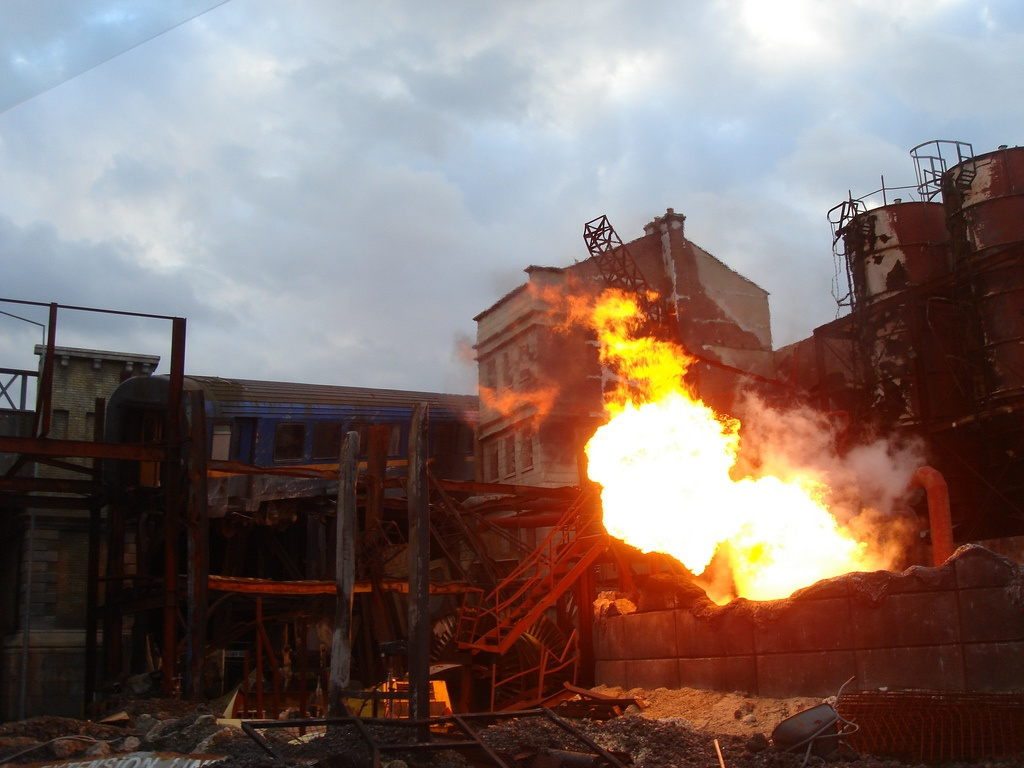fire: (567, 279, 883, 610)
